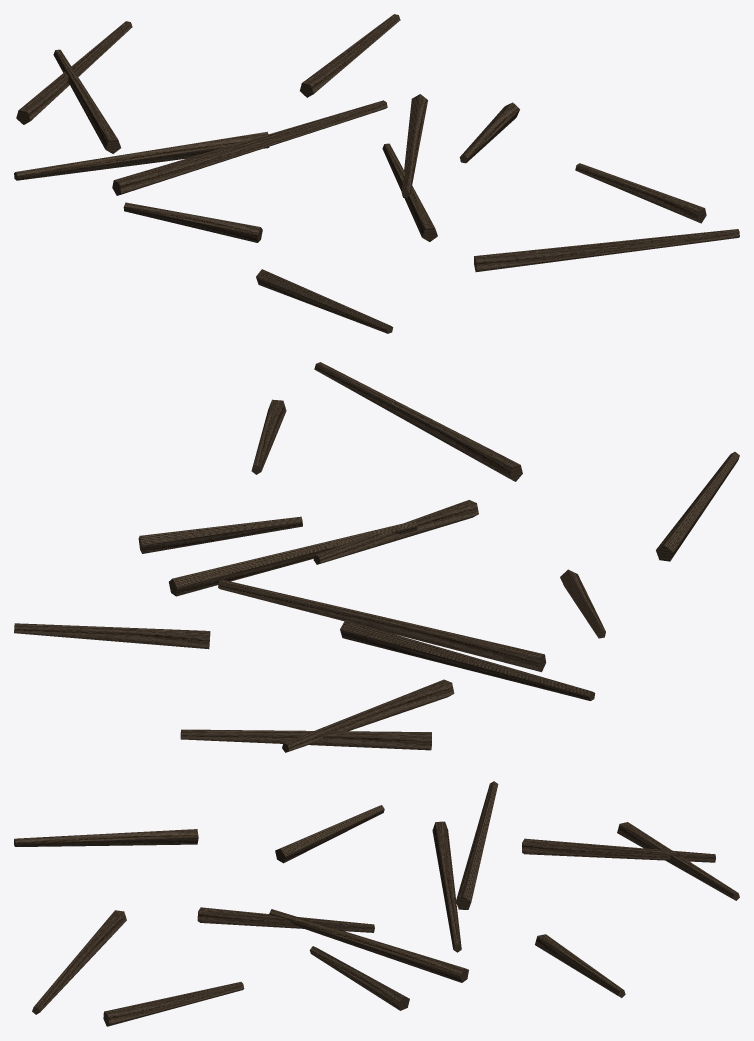
Rendered from env_ground_11_twigs_dense.glb.
The picture shows the model from 3 angles, top to bottom: view 1: azimuth 30°, elevation 25°; view 2: azimuth 150°, elevation 25°; view 3: azimuth 270°, elevation 25°; orthographic projection. The views are drawn at different scales.
Visible parts, largest first — view 1: solid; view 2: solid; view 3: solid.
Part boxes in pixels (left/top/right/bottom): solid: left=14, top=14, right=739, bottom=333; solid: left=14, top=362, right=739, bottom=752; solid: left=14, top=781, right=739, bottom=1026.
Size of the model in its own units: 0.7194 by 0.03 by 0.9653.
1 material, 1 textured.
